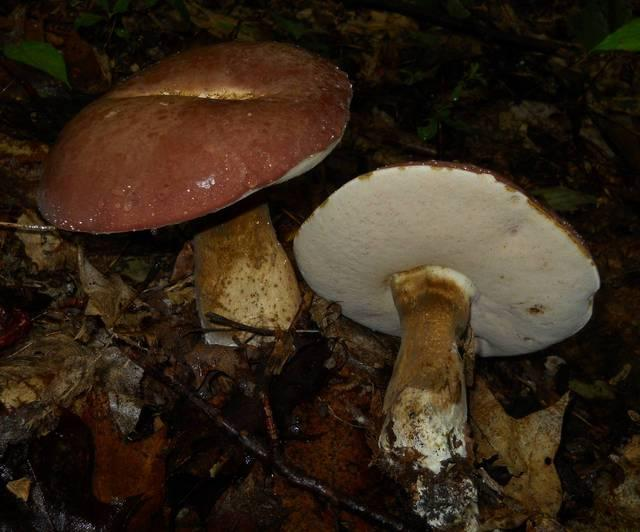Non-edible Mushroom: (291, 158, 601, 530), (35, 37, 353, 351)
